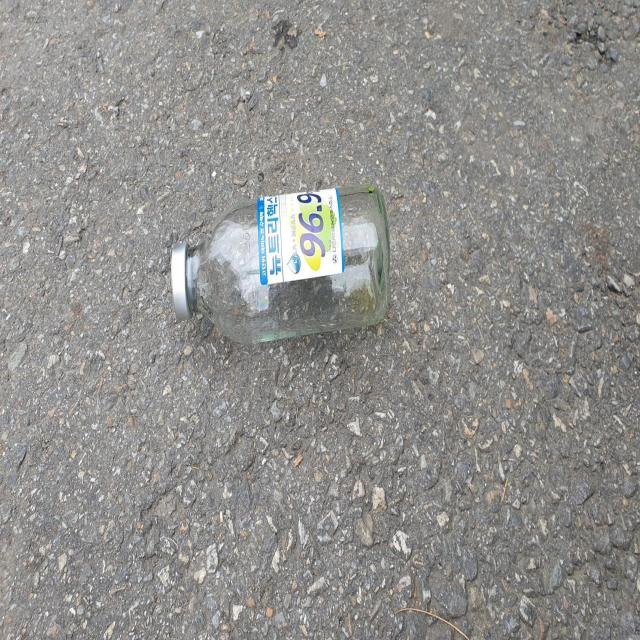glass: (171, 185, 390, 343)
